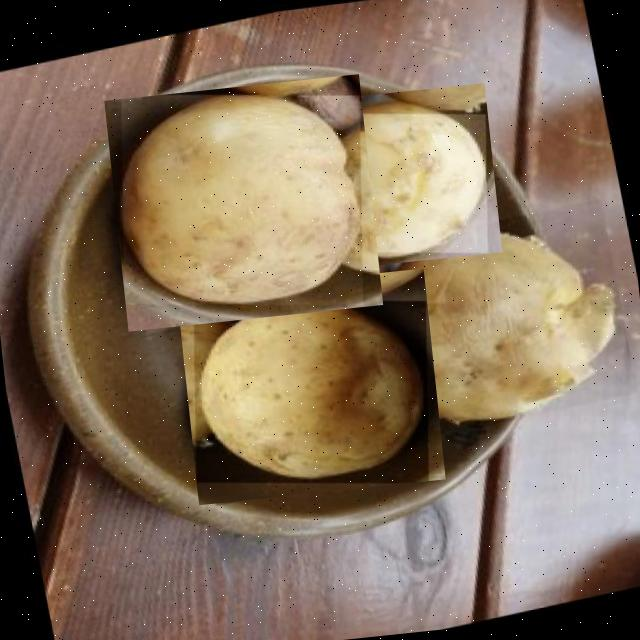Potato: (350, 194, 640, 446), (104, 73, 382, 330), (177, 267, 446, 504), (309, 82, 502, 269)
